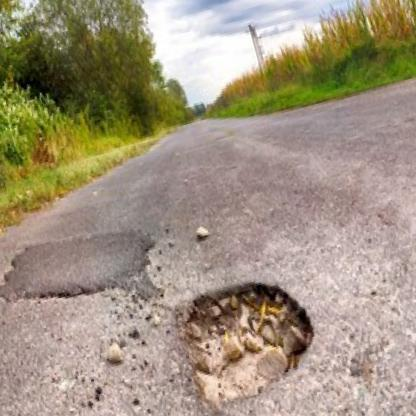pothole: (160, 262, 330, 416)
